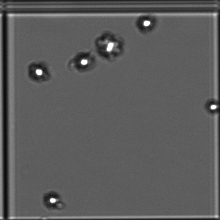Living Cell: (98, 29, 122, 63), (26, 55, 50, 83), (136, 13, 158, 35), (69, 49, 92, 70), (43, 187, 61, 210), (203, 98, 217, 118)
